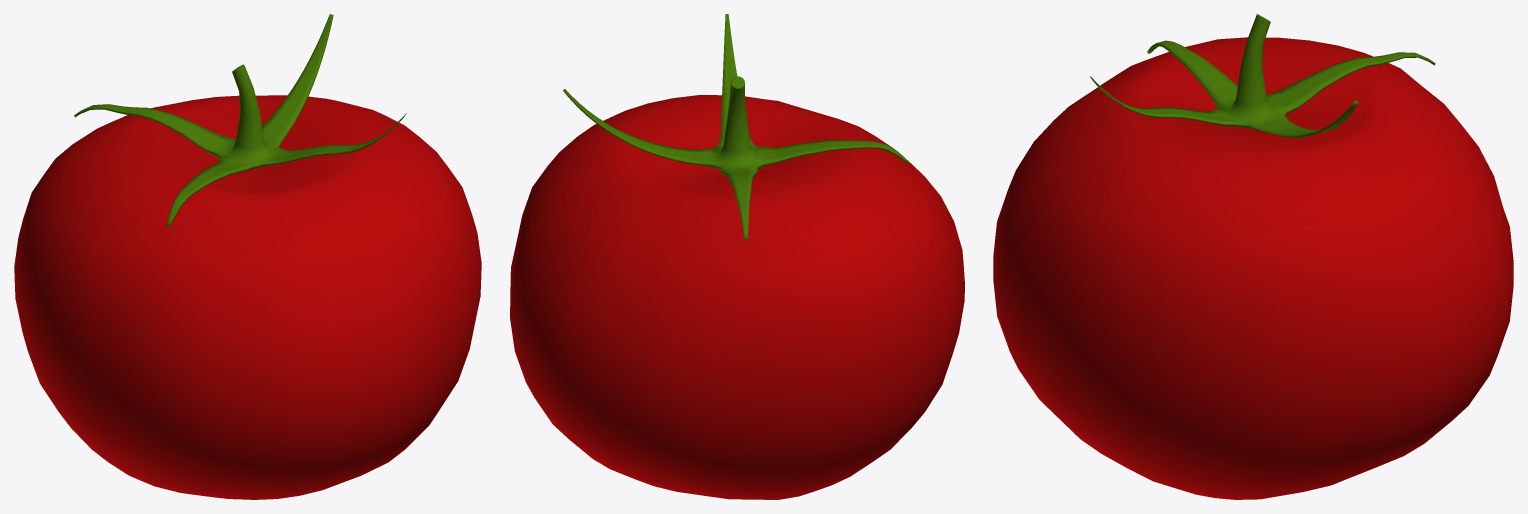
The model's file is tomoto.gltf.
3 views of the same model, side by side, from view 1: azimuth 30°, elevation 25°; view 2: azimuth 150°, elevation 25°; view 3: azimuth 270°, elevation 25° (orthographic). The views are drawn at different scales.
Visible parts, largest first — view 1: Sphere.004_Sphere.009; view 2: Sphere.004_Sphere.009; view 3: Sphere.004_Sphere.009.
Boxes of the visible parts, x1,y1,x2,y2 form: Sphere.004_Sphere.009: (14, 14, 481, 499); Sphere.004_Sphere.009: (510, 14, 964, 499); Sphere.004_Sphere.009: (993, 14, 1513, 499).
Size of the model in its own units: 1.46 by 1.41 by 1.48.
1 material, 1 textured.
